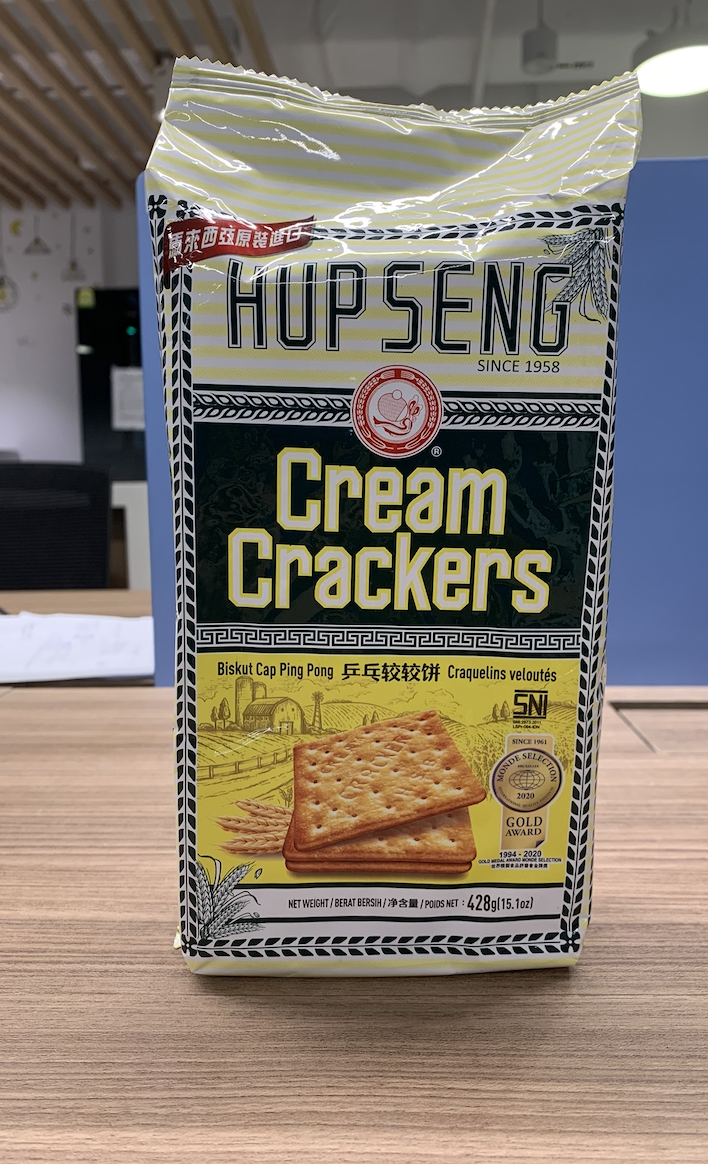crackers_450g: (173, 179, 593, 948)
